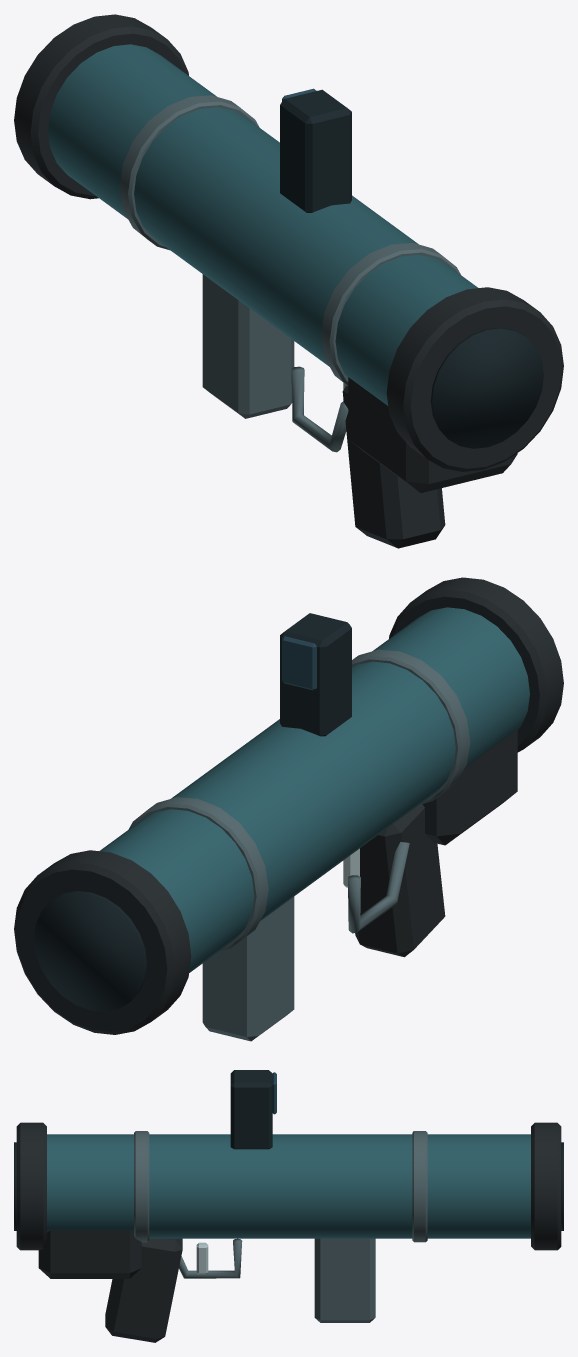
Rendered from comet-launcher.glb.
3 renders of one model, top to bottom at view 1: azimuth 30°, elevation 25°; view 2: azimuth 150°, elevation 25°; view 3: azimuth 270°, elevation 25°, orthographic. The views are drawn at different scales.
Parts seen in each view (by area): view 1: Launcher tube, Protective end collar.001, Dark tube opening.001, Front support, Protective end collar, Raised sight.002, Textured pistol grip.005, Shoulder pad, Tube reinforcement, Tube reinforcement.001, Trigger guard.005; view 2: Launcher tube, Protective end collar, Dark tube opening, Front support, Textured pistol grip.005, Protective end collar.001, Raised sight.002, Shoulder pad, Tube reinforcement, Tube reinforcement.001, Trigger guard.005, Sight glass.001; view 3: Launcher tube, Textured pistol grip.005, Front support, Shoulder pad, Protective end collar, Protective end collar.001, Raised sight.002, Tube reinforcement, Tube reinforcement.001, Trigger guard.005, Trigger.005.
Part boxes in pixels (x1,y1,x2,y2): Launcher tube: [48, 44, 478, 405]; Protective end collar.001: [386, 287, 563, 471]; Dark tube opening.001: [430, 327, 543, 448]; Front support: [202, 274, 294, 418]; Protective end collar: [14, 14, 188, 199]; Raised sight.002: [280, 89, 351, 212]; Textured pistol grip.005: [342, 385, 445, 548]; Shoulder pad: [348, 377, 517, 492]; Tube reinforcement: [119, 95, 259, 250]; Tube reinforcement.001: [321, 243, 460, 385]; Trigger guard.005: [291, 366, 348, 452]; Launcher tube: [99, 607, 529, 972]; Protective end collar: [14, 850, 191, 1034]; Dark tube opening: [34, 891, 147, 1011]; Front support: [202, 896, 294, 1041]; Textured pistol grip.005: [355, 804, 445, 957]; Protective end collar.001: [389, 577, 563, 752]; Raised sight.002: [280, 613, 351, 736]; Shoulder pad: [422, 729, 517, 845]; Tube reinforcement: [128, 797, 268, 952]; Tube reinforcement.001: [352, 649, 470, 804]; Trigger guard.005: [348, 842, 409, 933]; Sight glass.001: [282, 636, 316, 690]; Launcher tube: [47, 1134, 530, 1238]; Textured pistol grip.005: [105, 1238, 182, 1342]; Front support: [314, 1238, 375, 1322]; Shoulder pad: [38, 1230, 141, 1278]; Protective end collar: [531, 1122, 561, 1250]; Protective end collar.001: [16, 1122, 46, 1250]; Raised sight.002: [230, 1070, 272, 1149]; Tube reinforcement: [412, 1131, 427, 1242]; Tube reinforcement.001: [134, 1131, 149, 1242]; Trigger guard.005: [179, 1238, 242, 1278]; Trigger.005: [196, 1242, 208, 1274].
Bounding box in the file's own units: 0.274 × 0.6139 × 1.18.
